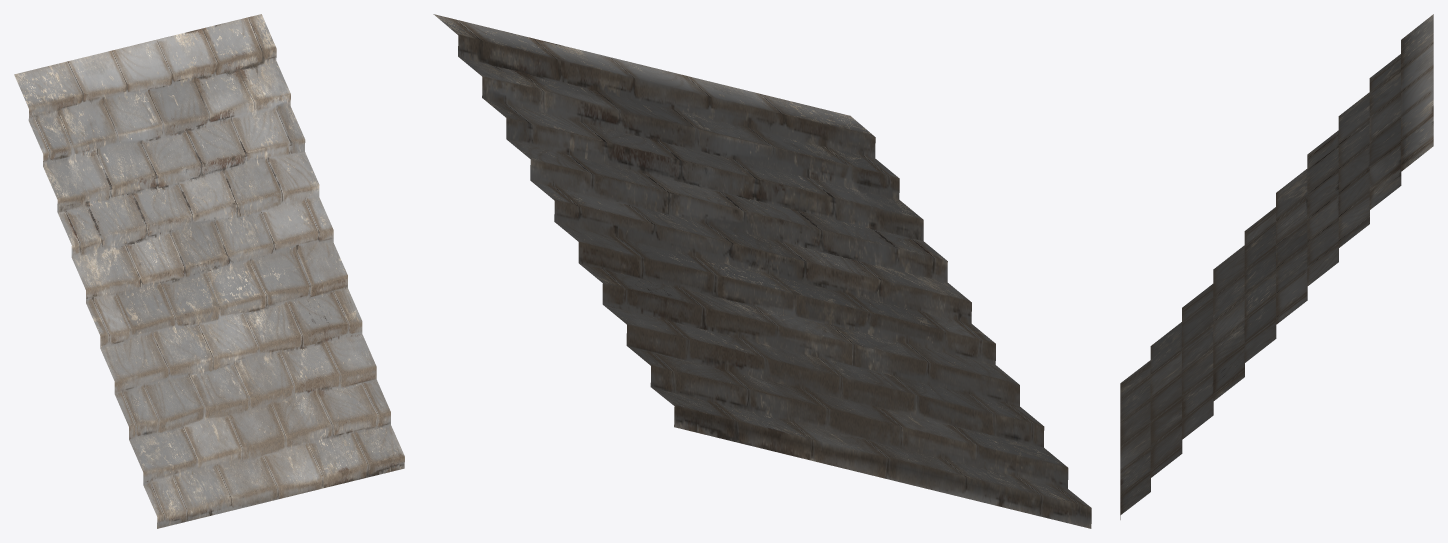
File: SM_Roof01_7_LOD0.glb
The picture shows the model from 3 angles, left to right: view 1: azimuth 30°, elevation 25°; view 2: azimuth 150°, elevation 25°; view 3: azimuth 270°, elevation 25°; orthographic projection. The views are drawn at different scales.
Parts seen in each view (by area): view 1: SM_Roof01_7_LOD0; view 2: SM_Roof01_7_LOD0; view 3: SM_Roof01_7_LOD0.
Boxes of the visible parts, <box> form: SM_Roof01_7_LOD0: <box>14,14,404,528</box>; SM_Roof01_7_LOD0: <box>433,14,1091,528</box>; SM_Roof01_7_LOD0: <box>1120,14,1433,519</box>.
Bounding box in the file's own units: 2 × 2.7 × 2.
1 material, 1 textured.
